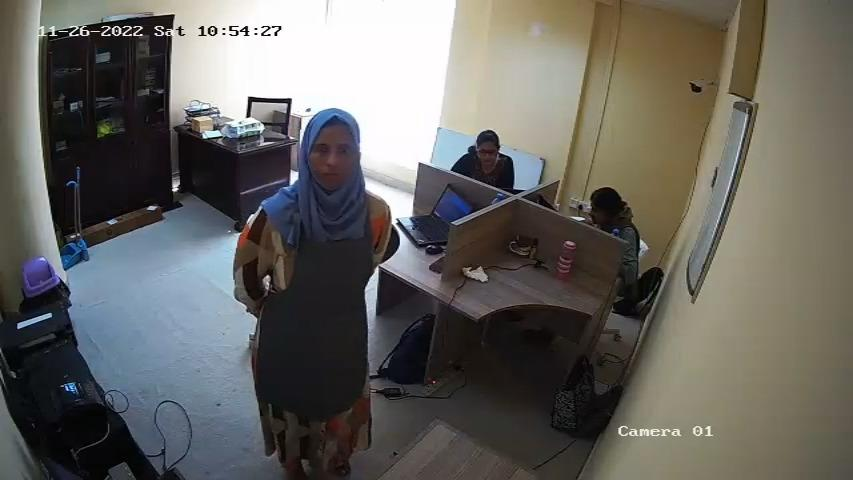apron: (254, 208, 371, 408)
